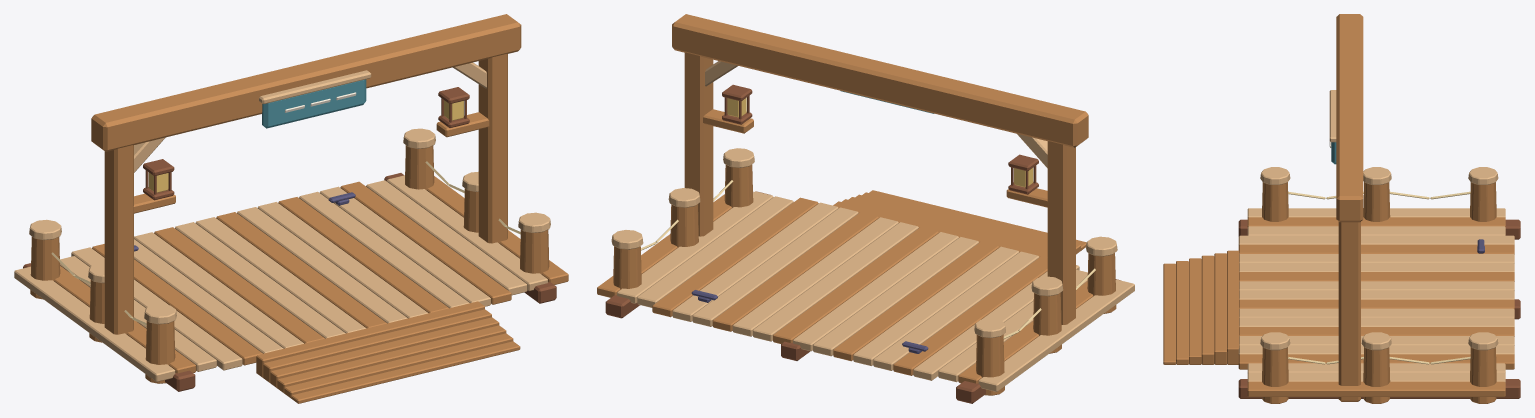
3 views of the same model, side by side, from view 1: azimuth 30°, elevation 25°; view 2: azimuth 150°, elevation 25°; view 3: azimuth 270°, elevation 25° (orthographic). The views are drawn at different scales.
Parts seen in each view (by area): view 1: Honey timber, Pale timber, Toasted timber, Sea glass, Warm amber; view 2: Honey timber, Pale timber, Toasted timber, Warm amber; view 3: Honey timber, Pale timber, Toasted timber, Twine.
Boxes of the visible parts, x1,y1,x2,y2 form: Honey timber: (30, 14, 568, 403); Pale timber: (14, 62, 550, 381); Toasted timber: (23, 87, 556, 391); Sea glass: (262, 79, 366, 128); Warm amber: (148, 100, 463, 192); Honey timber: (597, 14, 1116, 395); Pale timber: (611, 61, 1134, 391); Toasted timber: (605, 84, 1120, 403); Warm amber: (727, 98, 1033, 187); Honey timber: (1163, 14, 1514, 403); Pale timber: (1238, 90, 1514, 382); Toasted timber: (1238, 219, 1520, 398); Twine: (1288, 191, 1470, 364).
Size of the model in its own units: 5.86 by 3.13 by 4.79.
